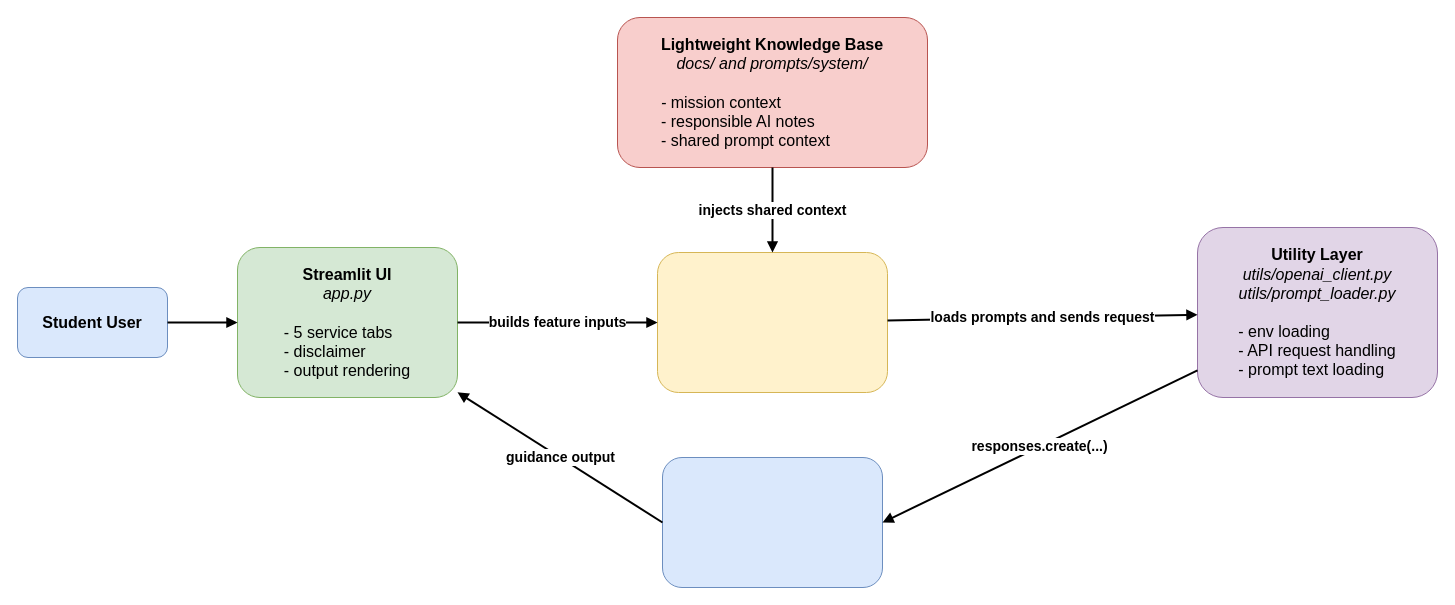
Image size: 1455x605. Some labels were removed from this diagram. The box of each missing label's shape, as (x1, y1, x2, y2) in pixels:
OpenAI API - system prompt - user prompt - structured guidance response: (662, 456, 882, 588)
Prompt Layer prompts/*.py - feature prompt builders - shared prompt rules: (656, 252, 888, 392)
